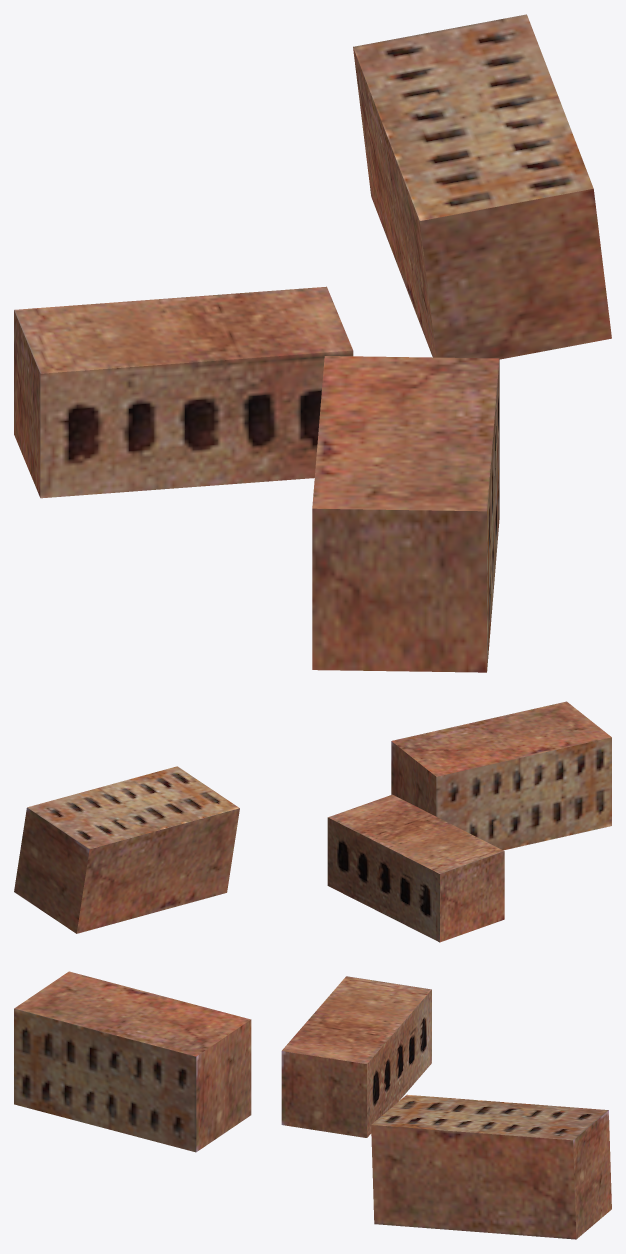
Rendered from Debris2_7_LOD2.fbx.
The picture shows the model from 3 angles, top to bottom: view 1: azimuth 30°, elevation 25°; view 2: azimuth 150°, elevation 25°; view 3: azimuth 270°, elevation 25°; orthographic projection. The views are drawn at different scales.
Parts seen in each view (by area): view 1: polySurface318; view 2: polySurface318; view 3: polySurface318.
Boxes of the visible parts, <box> form: polySurface318: <box>14,14,611,672</box>; polySurface318: <box>14,701,611,942</box>; polySurface318: <box>14,971,611,1239</box>.
Bounding box in the file's own units: 0.9281 × 0.2549 × 1.16.
